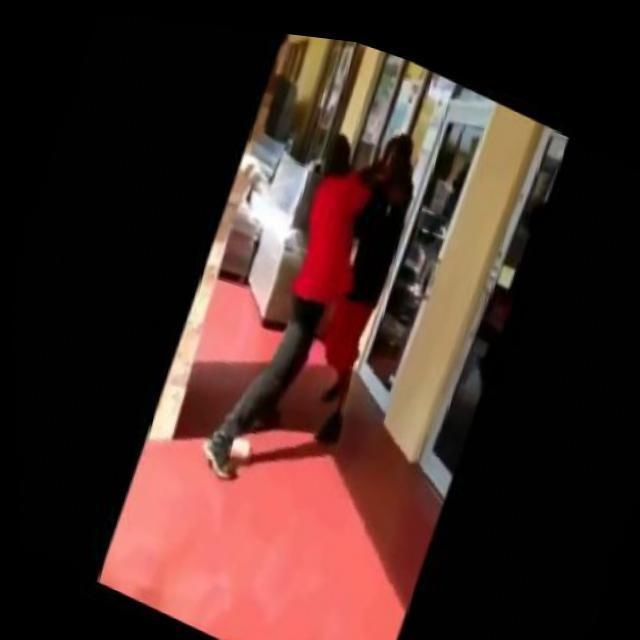fight: (183, 66, 452, 536)
